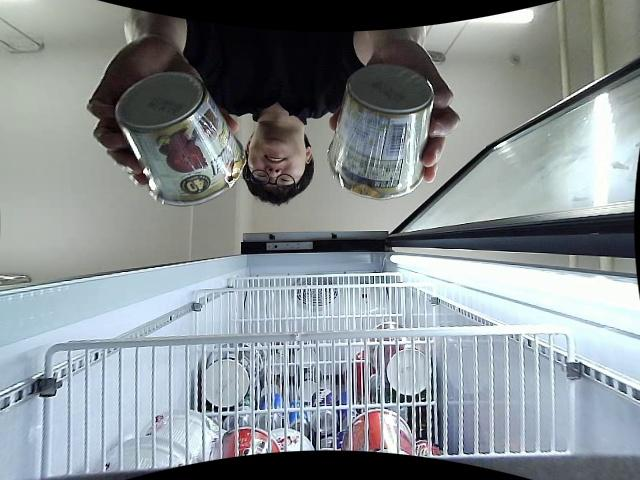00_hand: (87, 39, 240, 187), (329, 41, 461, 183)
04_chapagetti_S: (115, 72, 248, 205), (324, 62, 435, 198)
